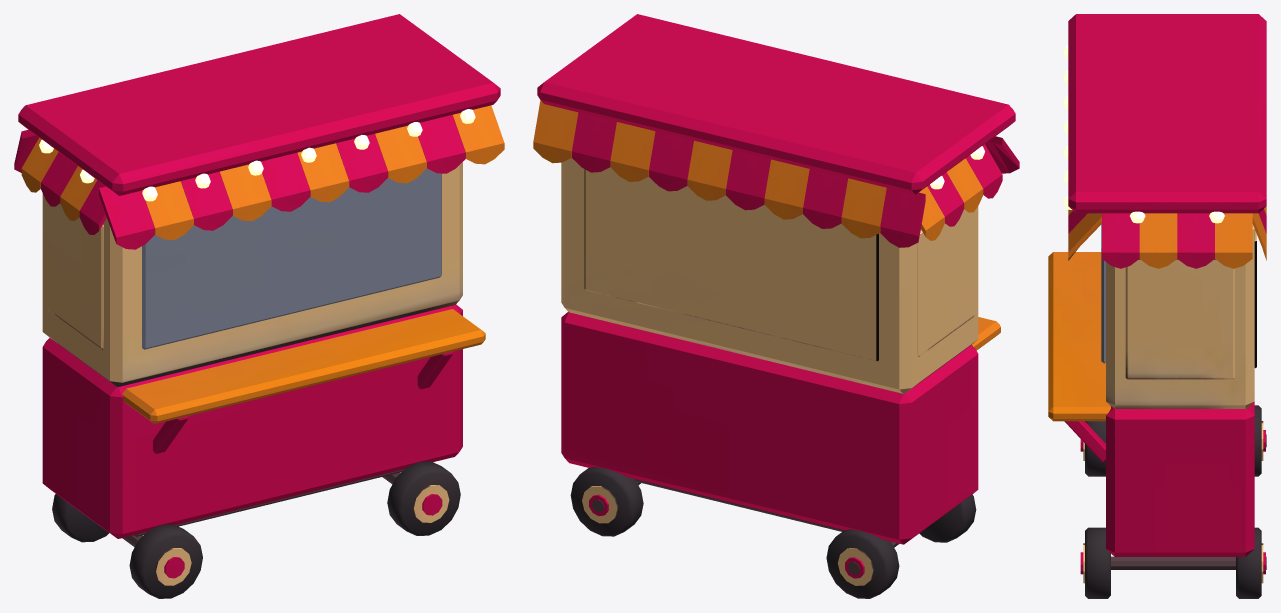
File: cart.glb
3 renders of one model, left to right at view 1: azimuth 30°, elevation 25°; view 2: azimuth 150°, elevation 25°; view 3: azimuth 270°, elevation 25°, orthographic. The views are drawn at different scales.
Parts seen in each view (by area): view 1: cart; view 2: cart; view 3: cart.
Part boxes in pixels (box(x1,y1,x2,y2)): cart: box(14, 14, 504, 598); cart: box(533, 14, 1019, 598); cart: box(1048, 14, 1266, 598).
Size of the model in its own units: 2.2 by 2.4 by 1.1.
Materials: 2 (1 with a texture image).
